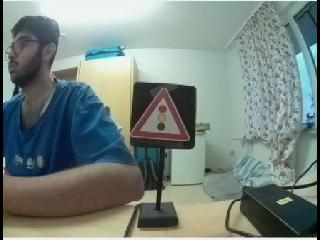traffic_light: (134, 84, 192, 146)
